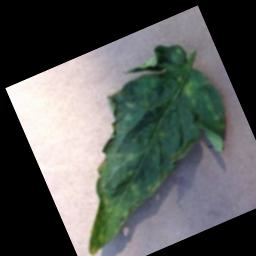Leaf_Mold: (23, 30, 256, 256)
